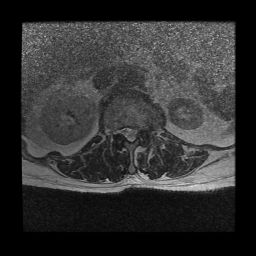CCS_stenosis: (127, 123, 134, 147)
LFS_severe_stenosis: (140, 122, 145, 138)
LLS_stenosis: (134, 123, 139, 140)
RFS_stenosis: (116, 124, 122, 141)
RLS_normal: (121, 123, 127, 142)
